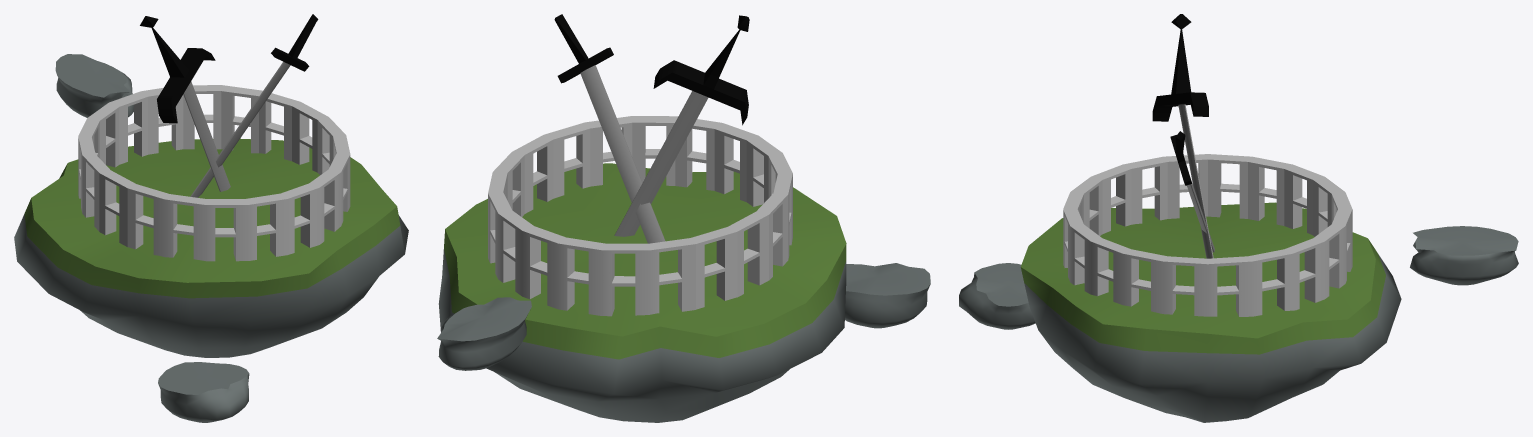
The model's file is title.fbx.
3 renders of one model, left to right at view 1: azimuth 30°, elevation 25°; view 2: azimuth 150°, elevation 25°; view 3: azimuth 270°, elevation 25°, orthographic. The views are drawn at different scales.
Visible parts, largest first — view 1: pCylinder2, pCylinder1, pCylinder3, pasted__pCylinder3, pCube2, pasted__pasted__pCube1, pasted__pCube1, pCube1; view 2: pCylinder2, pCylinder1, pasted__pCylinder3, pCylinder3, pasted__pCube1, pCube2, pasted__pasted__pCube1, pCube1; view 3: pCylinder2, pCylinder1, pasted__pCylinder3, pCylinder3, pCube2, pasted__pasted__pCube1.
Boxes of the visible parts, x1,y1,x2,y2 form: pCylinder2: (14, 138, 408, 357); pCylinder1: (78, 85, 350, 261); pCylinder3: (158, 362, 249, 422); pasted__pCylinder3: (55, 54, 133, 117); pCube2: (140, 16, 215, 123); pasted__pasted__pCube1: (183, 81, 230, 191); pasted__pCube1: (190, 62, 290, 197); pCube1: (271, 14, 318, 71); pCylinder2: (438, 163, 846, 422); pCylinder1: (488, 116, 792, 316); pasted__pCylinder3: (437, 297, 531, 370); pCylinder3: (845, 263, 930, 328); pasted__pCube1: (580, 65, 665, 243); pCube2: (653, 15, 749, 125); pasted__pasted__pCube1: (614, 91, 708, 236); pCube1: (554, 14, 613, 83); pCylinder2: (1020, 202, 1401, 422); pCylinder1: (1063, 154, 1352, 316); pasted__pCylinder3: (1410, 226, 1518, 285); pCylinder3: (959, 263, 1035, 329); pCube2: (1152, 14, 1208, 121); pasted__pasted__pCube1: (1178, 104, 1213, 258).
Bounding box in the file's own units: 1445 × 1461 × 2196.
